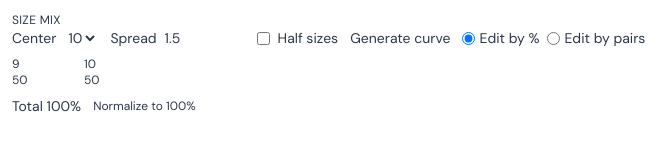
Test: SizeMixEditor › in pairs mode a typed count stays as typed while the mix follows it; Generate curve re-seeds the pairs (Task 34 fix I-2)
Click the radio button labelled "Edit by pairs".
click(554, 38)  # box [548,32,560,44]
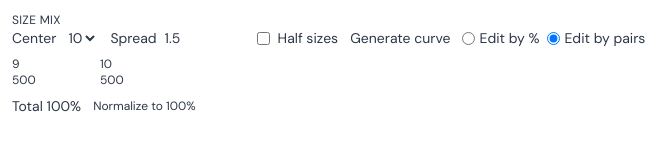
Replace the text in the number field named "10 pairs" with "501" at (140, 80), box [100,72,180,88]
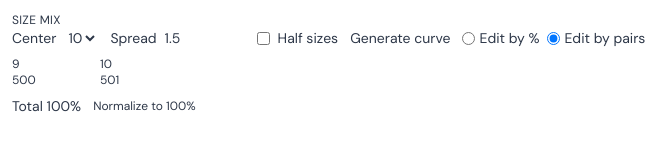
Check: the number field named "9 pairs" holds "500", box [12,72,92,88]
Replace the text in the number field named "10 pairs" with "1" at (140, 80), box [100,72,180,88]
Replace the text in the number field named "10 pairs" with "10" at (140, 80), box [100,72,180,88]
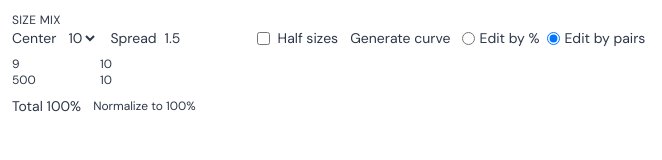
Replace the text in the number field named "10 pairs" with "100" at (140, 80), box [100,72,180,88]
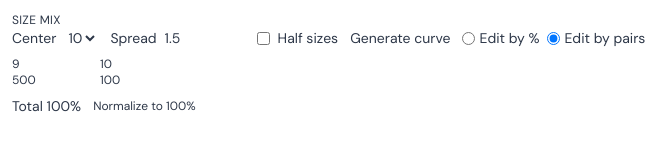
Replace the text in the number field named "10 pairs" with "1000" at (140, 80), box [100,72,180,88]
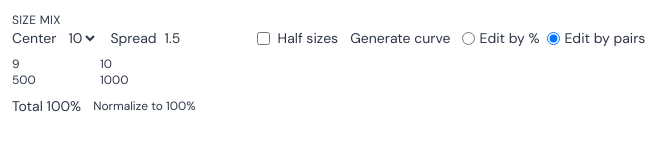
Click the button "Generate curve".
click(400, 38)  # box [350,28,450,48]
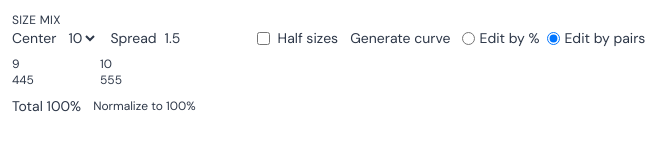
Check: the number field named "10 pairs" holds "555", box [100,72,180,88]
Check: the number field named "9 pairs" holds "445", box [12,72,92,88]
